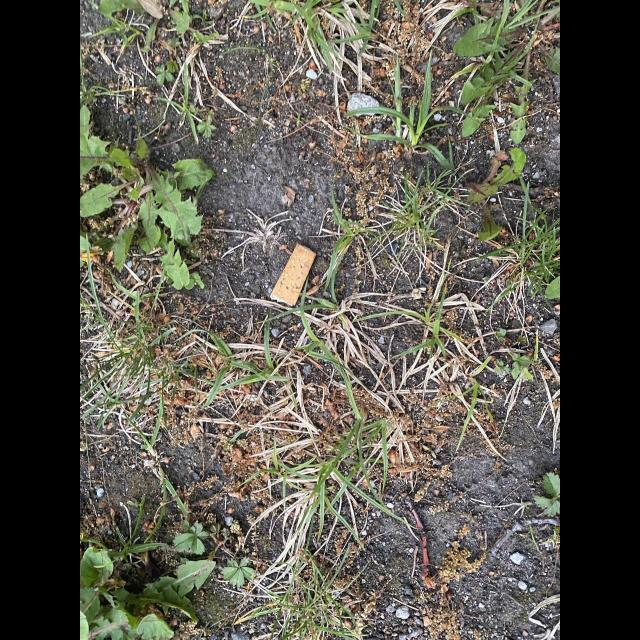cigarette: (270, 243, 316, 306)
